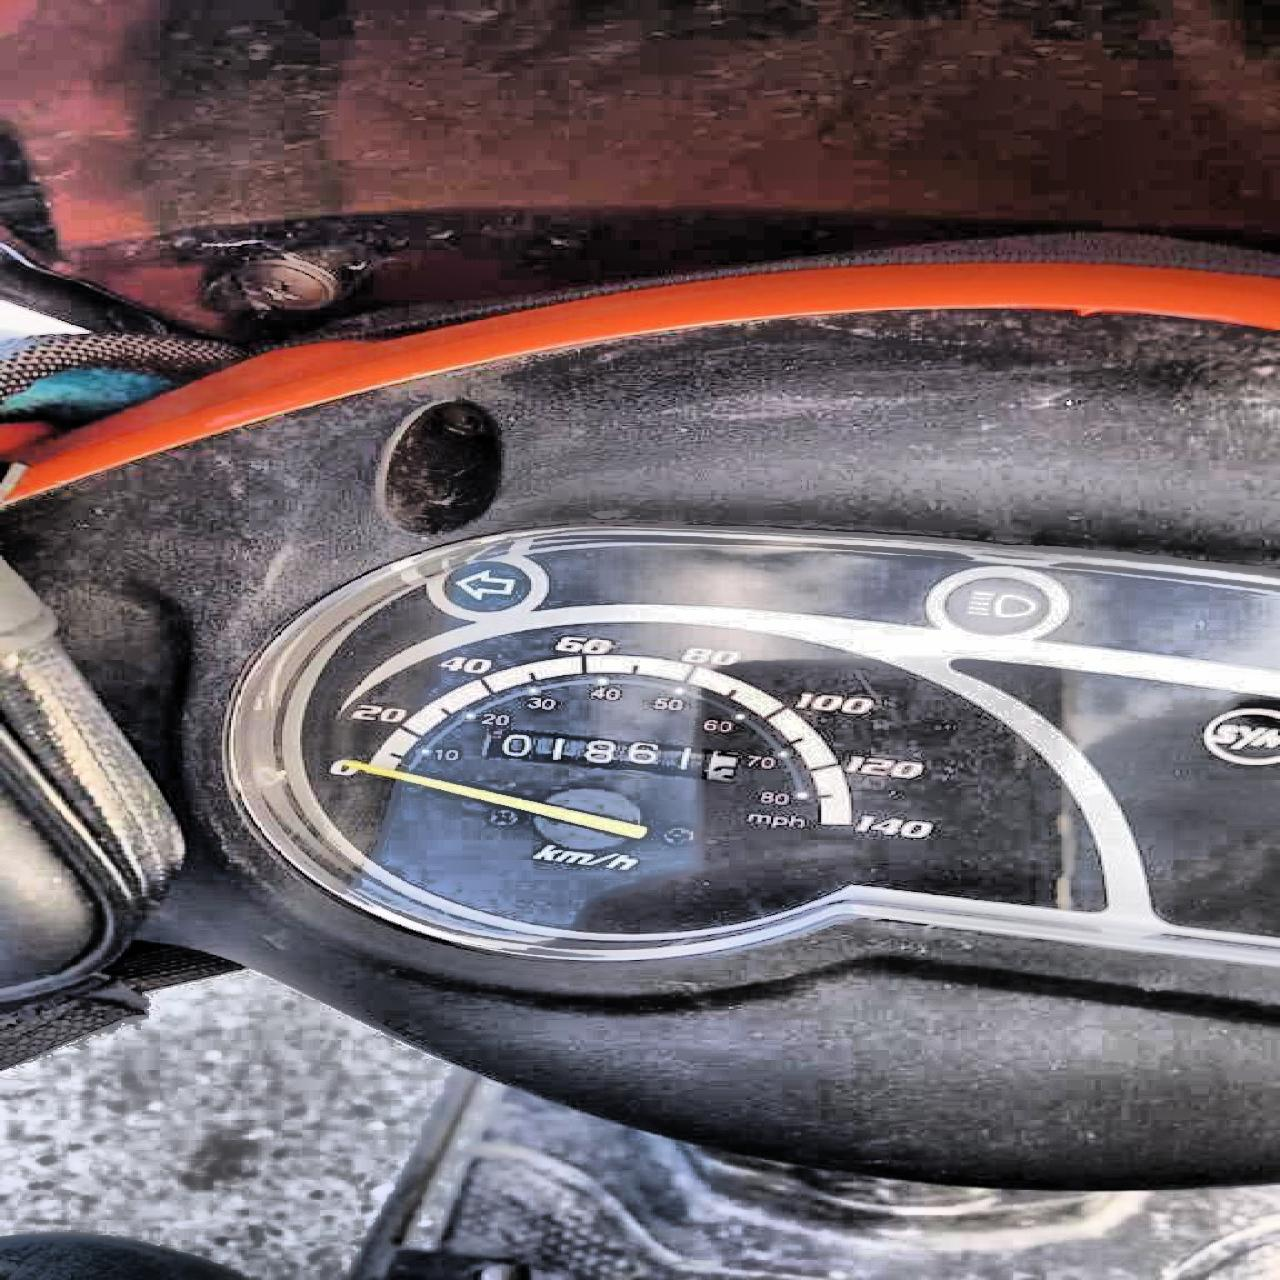0: (501, 733, 529, 756)
1: (549, 736, 564, 760), (675, 747, 689, 769)
3: (709, 764, 738, 782)
6: (626, 740, 655, 762)
8: (583, 738, 613, 763)
odometer: (481, 728, 740, 782)
